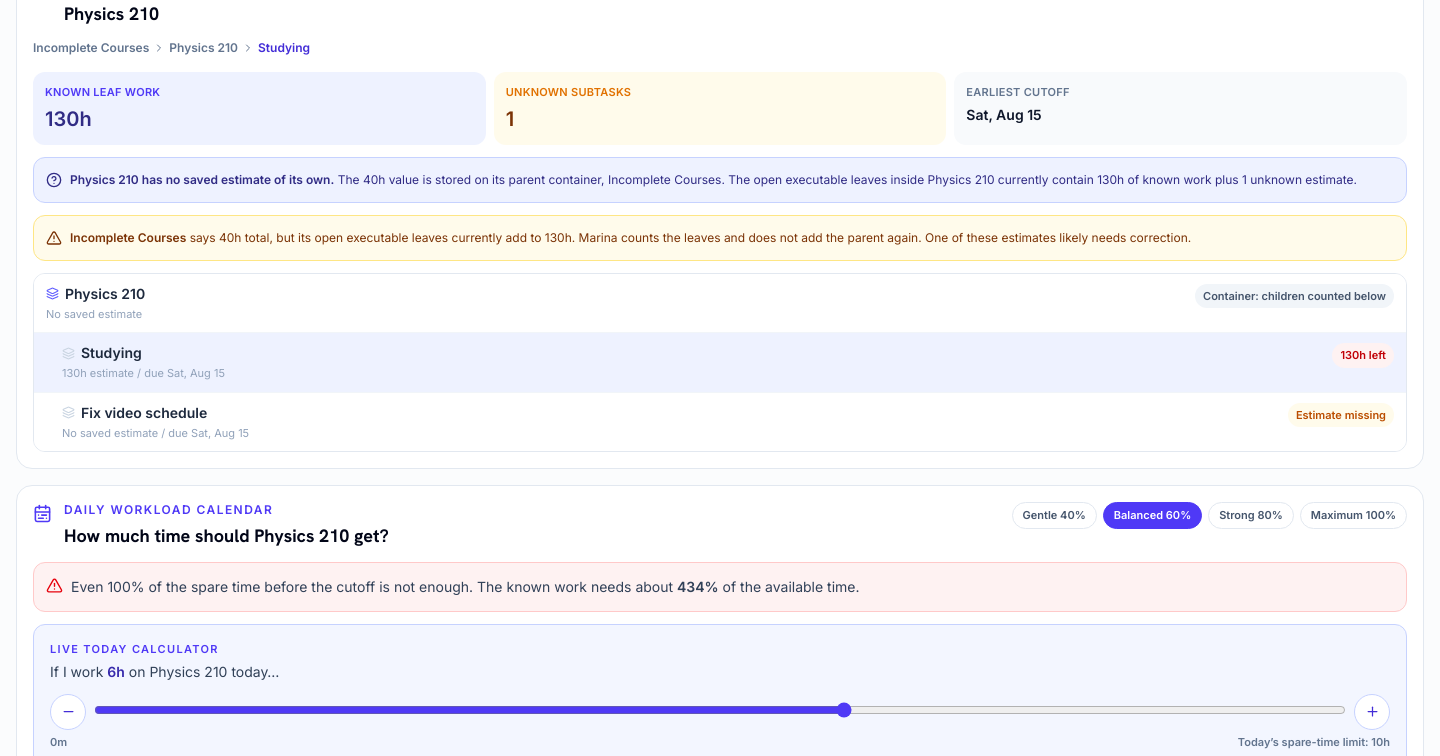
Test case: HierarchyWorkloadPanel › recalculates work left tonight as the today slider moves
The width and height of the screenshot is (1440, 756).
Set the slider named "What if work today" to "120" at [349, 710], box [94,702,1346,718]
(page scrolled)
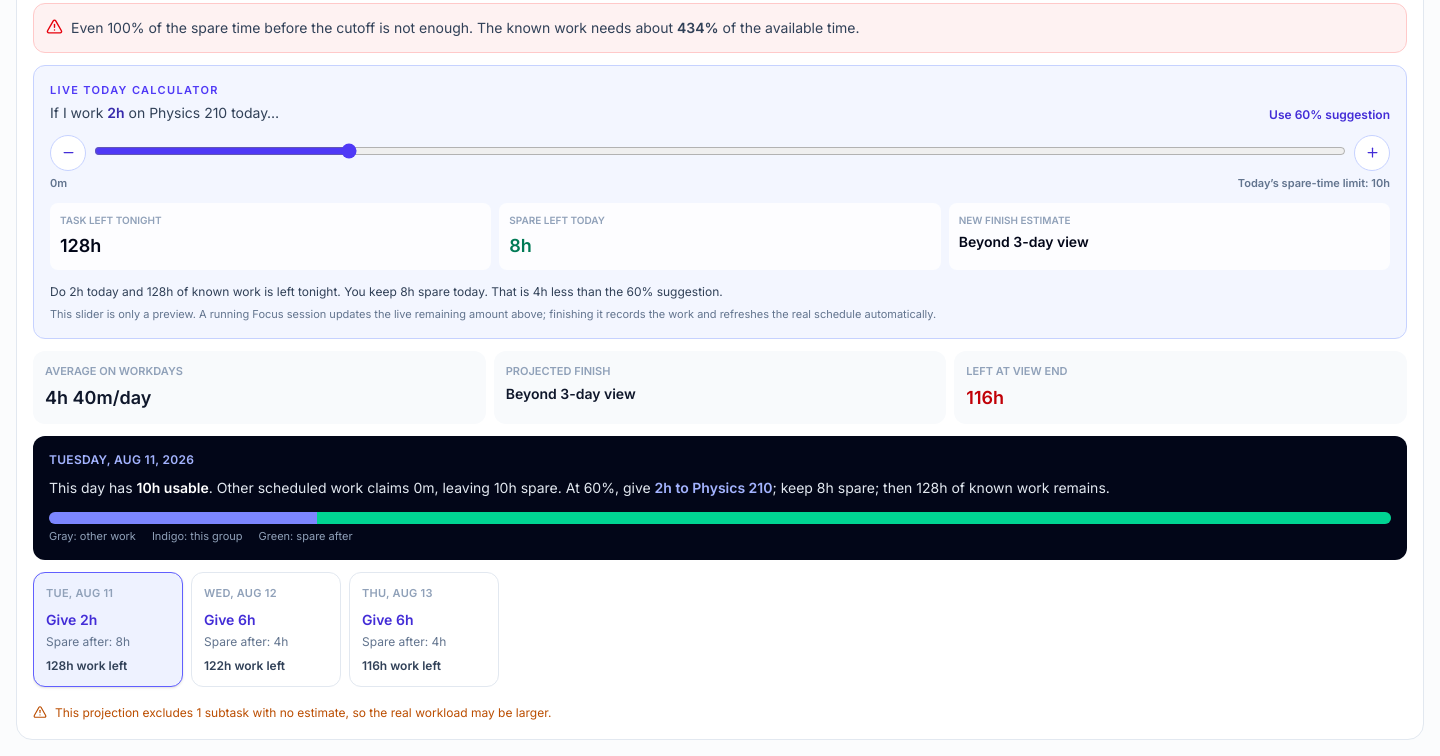
expect the text with test id "today-calculator-explanation" shows "Do 2h today": met, box [50,284,723,299]
expect the text with test id "today-calculator-explanation" shows "128h of known work is left tonight": met, box [50,284,723,299]
expect the text with test id "today-calculator-explanation" shows "8h spare today": met, box [50,284,723,299]
